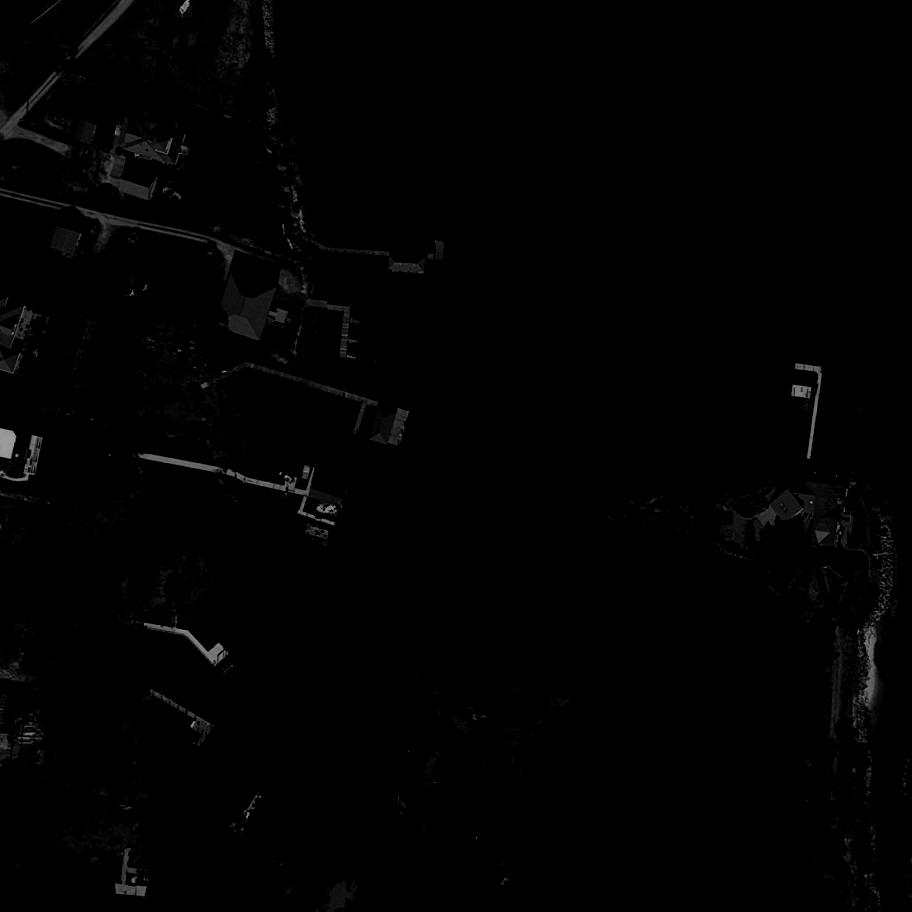ship: (159, 184, 189, 208), (228, 820, 251, 840), (128, 875, 152, 887), (315, 504, 341, 515), (177, 0, 193, 17), (130, 285, 142, 305), (243, 810, 254, 823)
small-vehicle: (140, 281, 157, 302), (712, 511, 733, 526), (119, 278, 135, 297), (194, 282, 211, 295), (81, 239, 88, 257)
